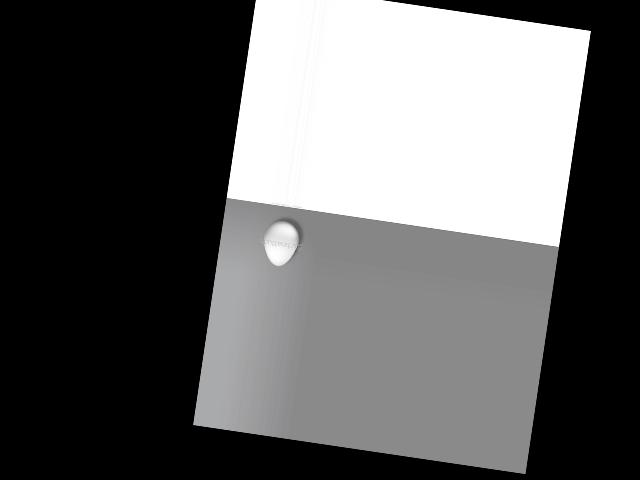egg: (260, 219, 301, 269)
